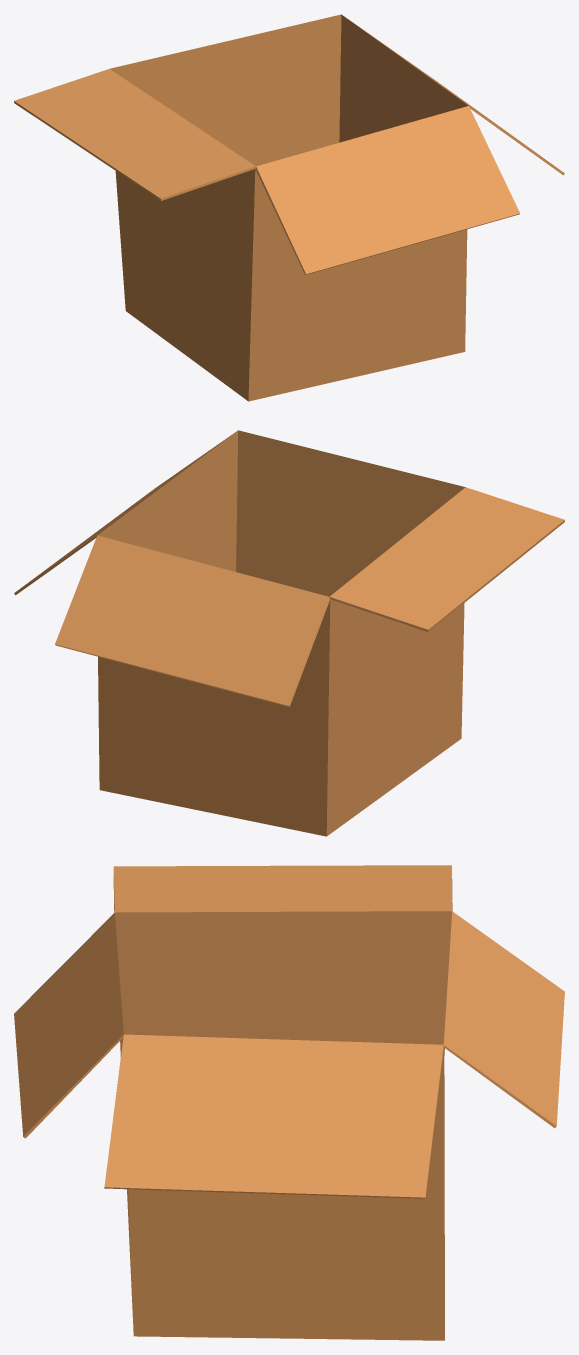
The model's file is clutter_box_01.glb.
The picture shows the model from 3 angles, top to bottom: view 1: azimuth 30°, elevation 25°; view 2: azimuth 150°, elevation 25°; view 3: azimuth 270°, elevation 25°; orthographic projection. The views are drawn at different scales.
Visible parts, largest first — view 1: box; view 2: box; view 3: box.
Part boxes in pixels (box(x1,y1,x2,y2)): box: box(14, 14, 564, 401); box: box(14, 430, 564, 836); box: box(14, 865, 564, 1340).
Bounding box in the file's own units: 1.83 × 1.07 × 1.74.
